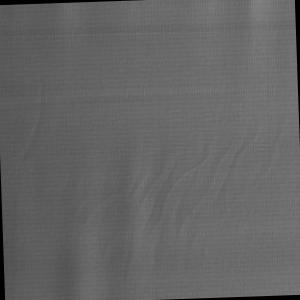Wrinkle: (59, 102, 299, 286), (1, 1, 283, 76), (9, 64, 59, 183)
